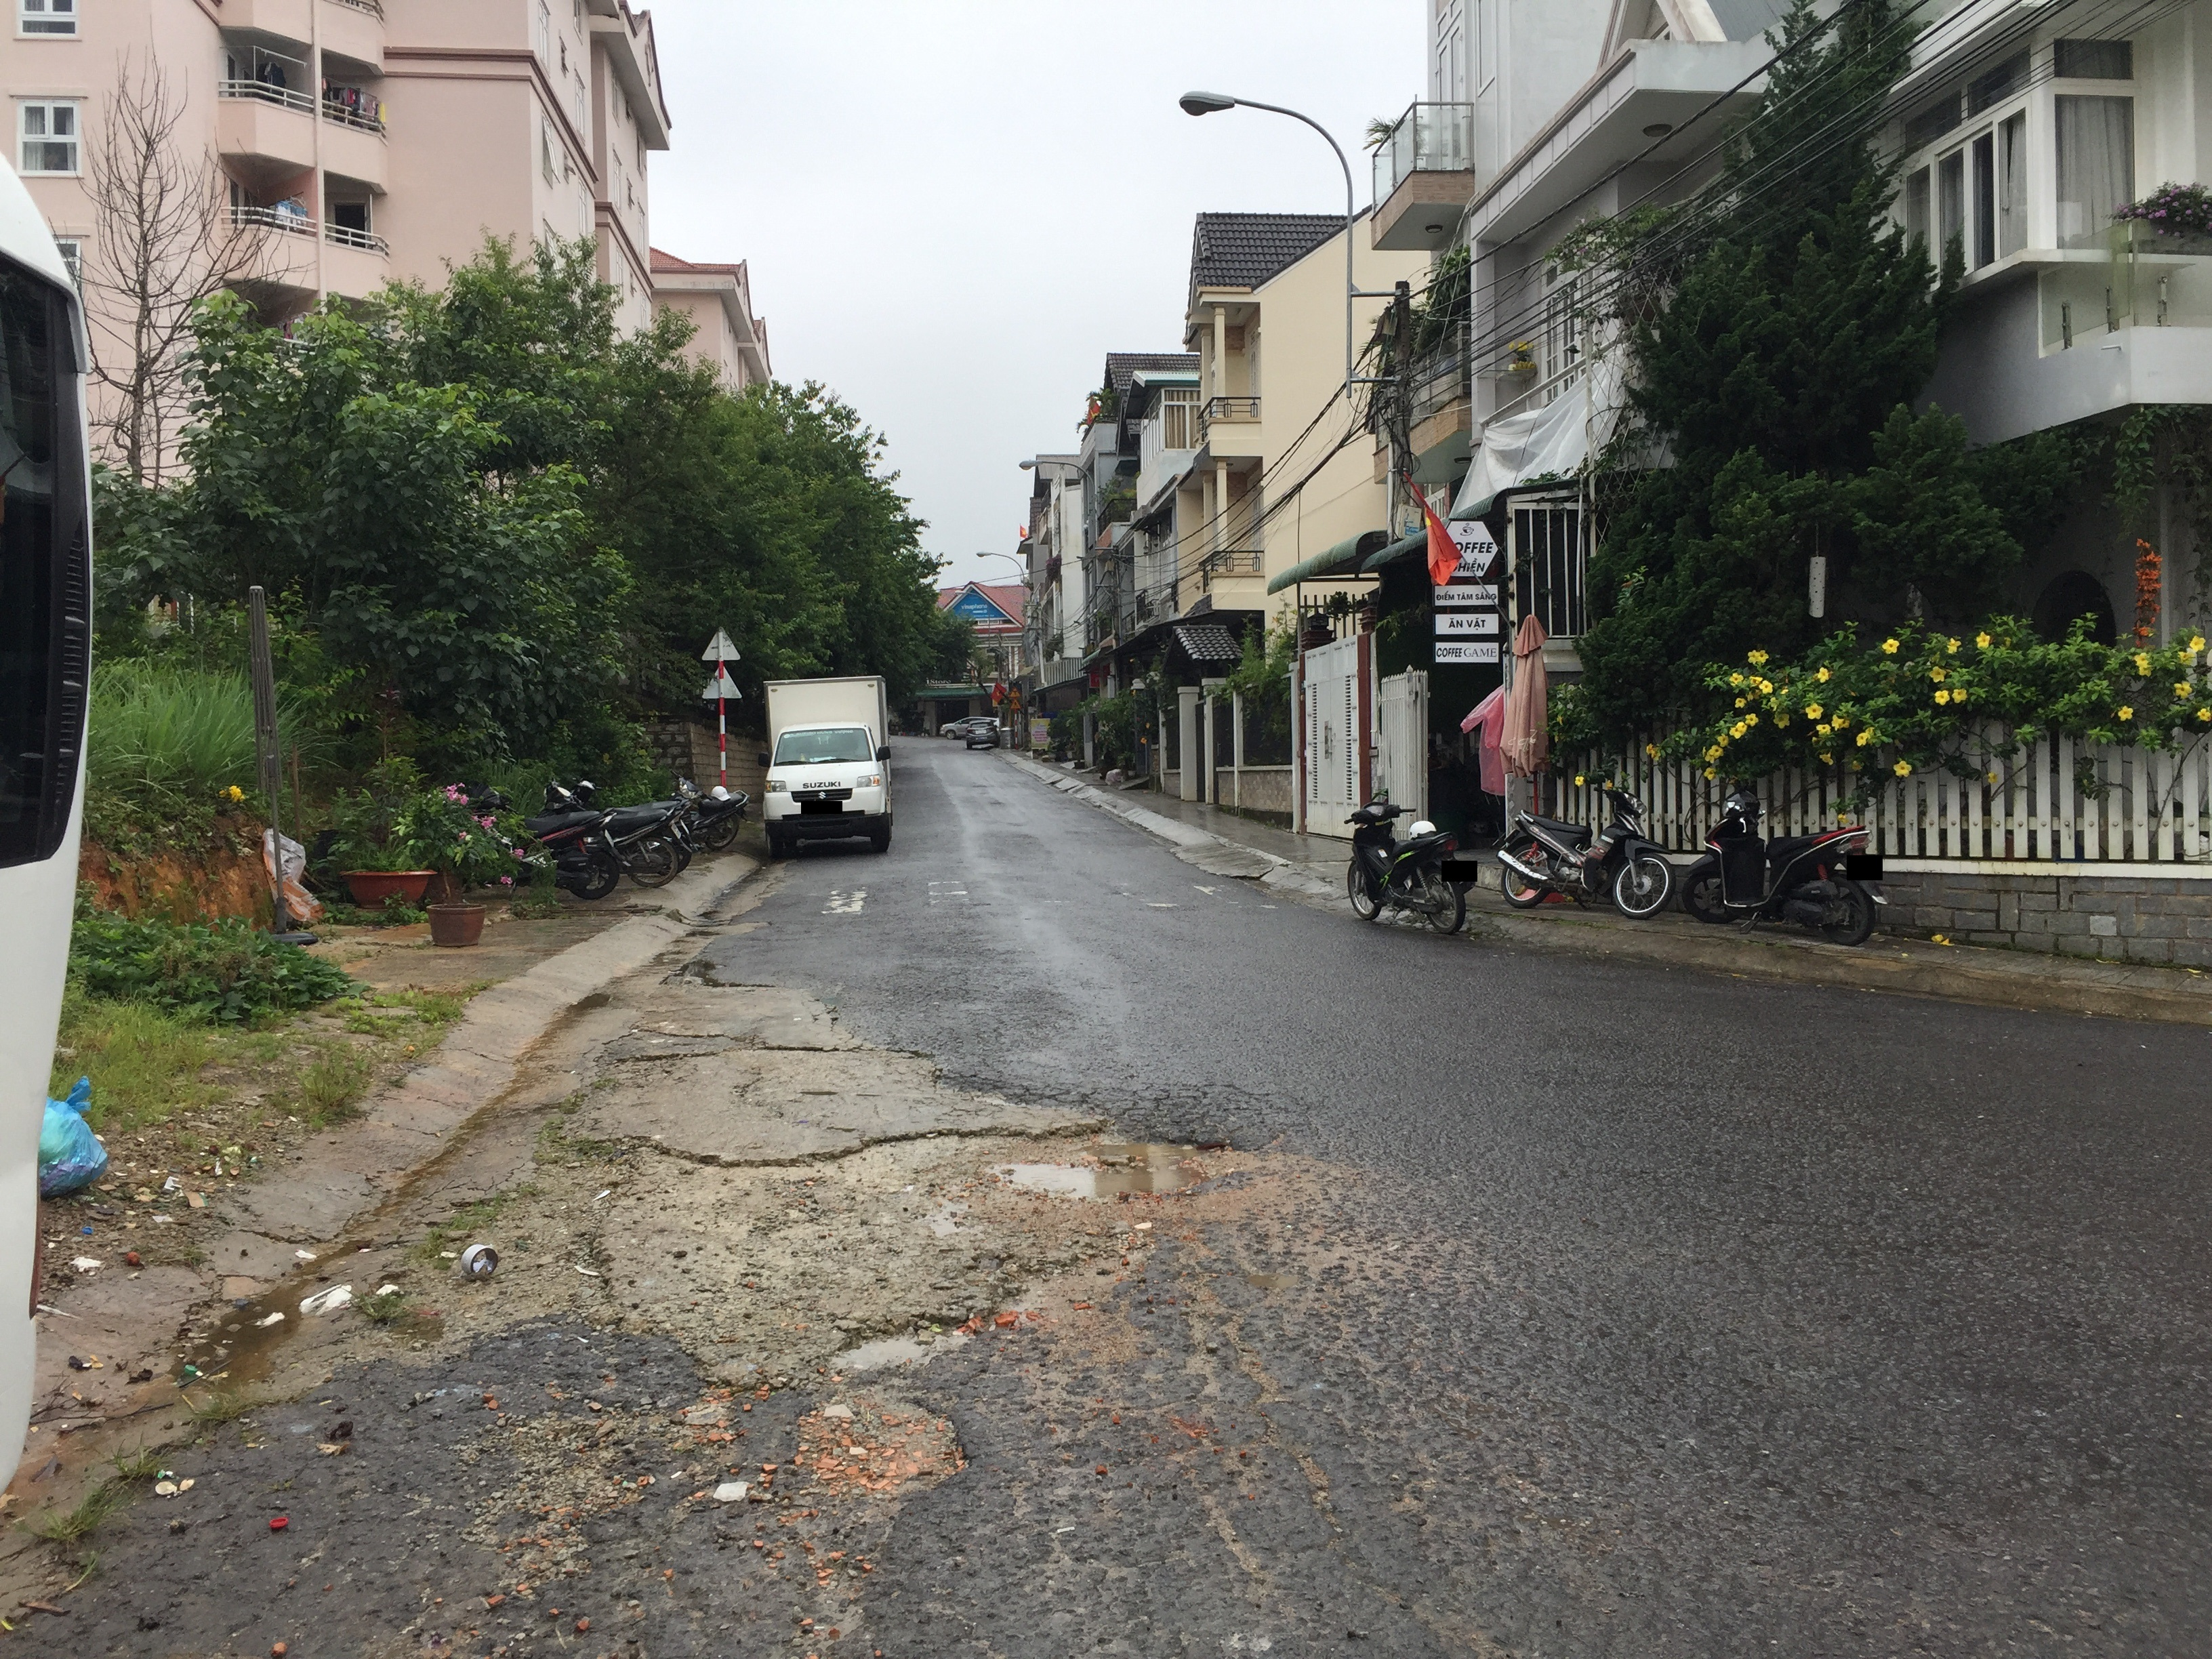hole: (777, 1385, 981, 1504), (972, 1126, 1261, 1199), (812, 1309, 984, 1378), (935, 1068, 1108, 1114)
